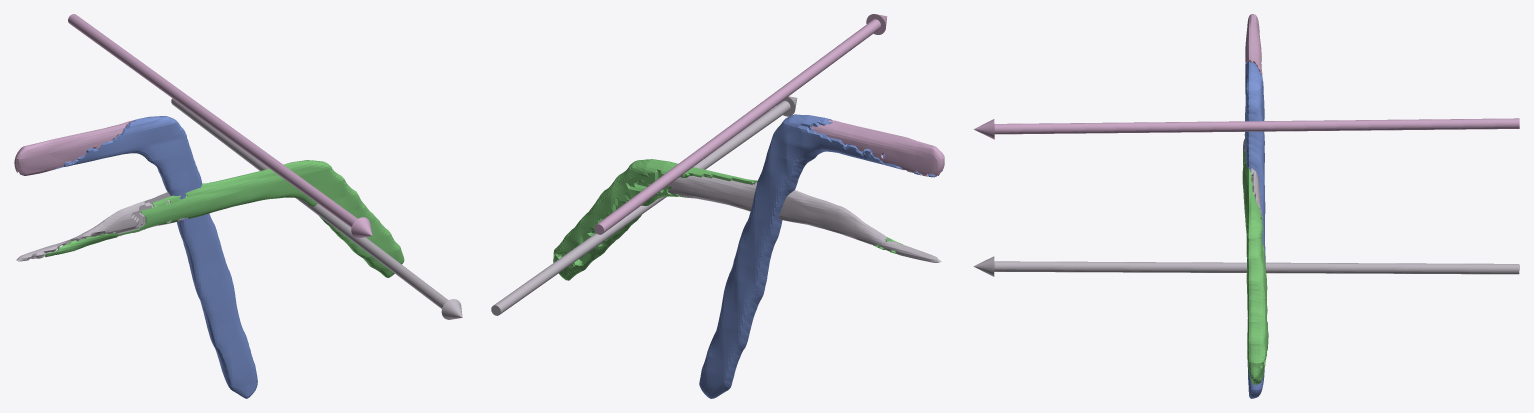
The picture shows the model from 3 angles, left to right: view 1: azimuth 30°, elevation 25°; view 2: azimuth 150°, elevation 25°; view 3: azimuth 270°, elevation 25°; orthographic projection. The views are drawn at different scales.
Visible parts, largest first — view 1: part2, part4, world, part1, part3; view 2: part2, world, part3, part4, part1; view 3: world, part4, part2, part1.
Boxes of the visible parts, x1,y1,x2,y2 form: part2: (19,116,257,398); part4: (45,160,404,277); world: (68,14,462,319); part1: (14,120,133,175); part3: (16,183,203,261); part2: (699,114,936,398); world: (491,14,887,315); part3: (667,175,941,262); part4: (553,159,903,280); part1: (811,120,944,176); world: (973,118,1519,276); part4: (1242,147,1268,384); part2: (1244,61,1265,398); part1: (1245,14,1262,74).
Bounding box in the file's own units: 0.7957 × 0.5992 × 1.04.
